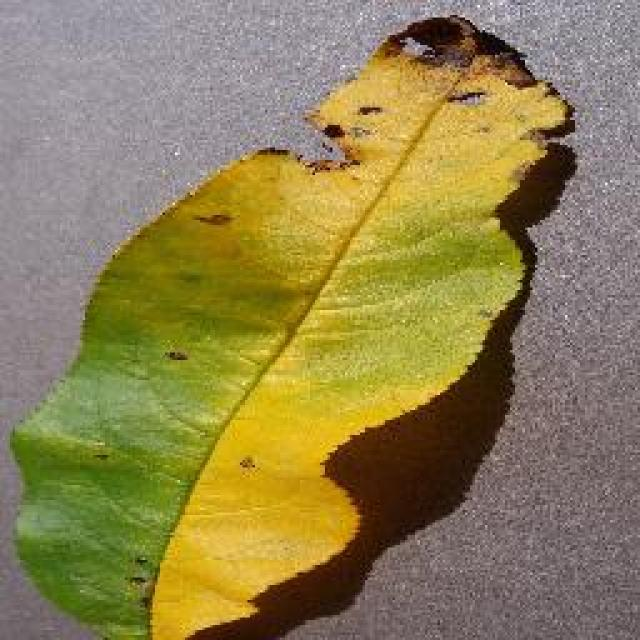Peach_Bacterial_Spot: (360, 13, 528, 204)
